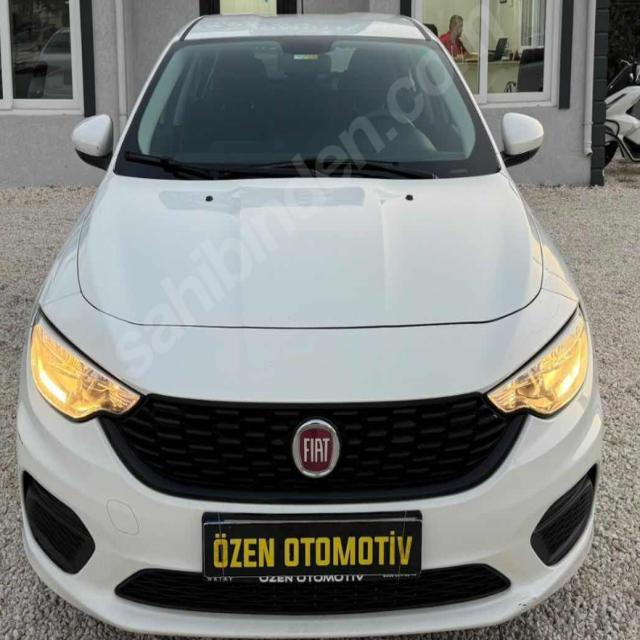fiat: (281, 402, 354, 488)
